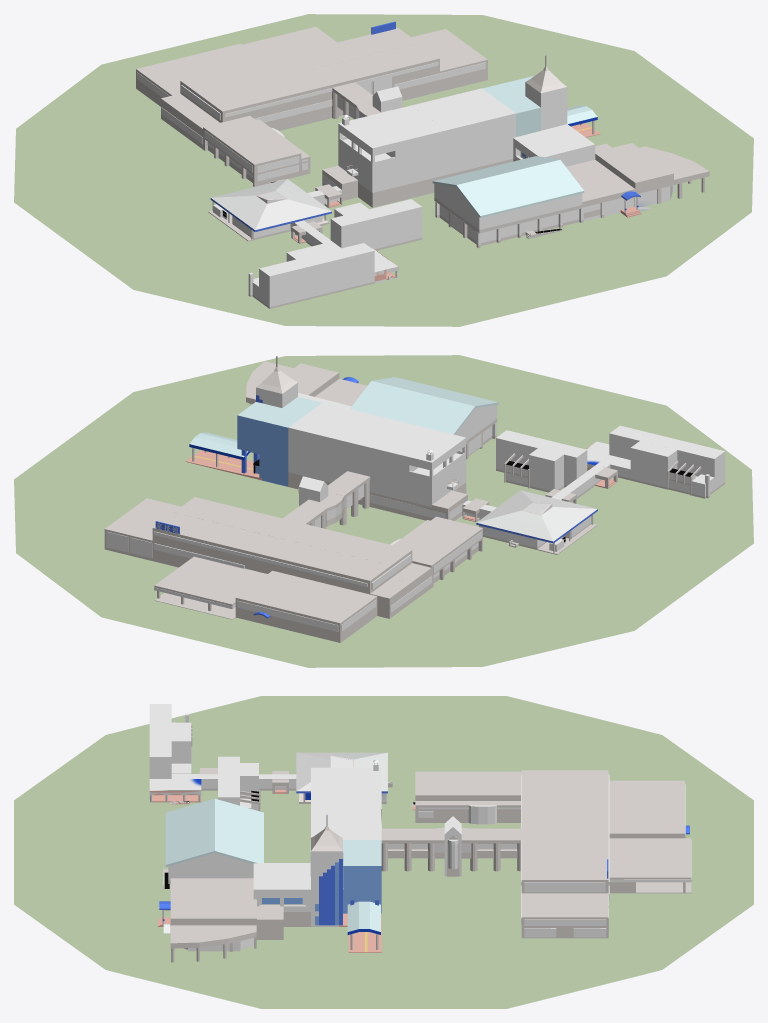
The model's file is kousya_sample12_19.glb.
The picture shows the model from 3 angles, top to bottom: view 1: azimuth 30°, elevation 25°; view 2: azimuth 150°, elevation 25°; view 3: azimuth 270°, elevation 25°; orthographic projection. The views are drawn at different scales.
Visible parts, largest first — view 1: 平面.006, 体育館屋根, 立方体.031, 学生寮・男子, 立方体, 立方体.001, 学生寮・女子, 立方体.027, 食堂・屋根・土台, 立方体.021, 本校舎2F・土台.001, 立方体.003 (+22 smaller); view 2: 平面.006, 立方体.003, 体育館屋根, 立方体.021, 立方体.002, 立方体.026, 本校者・紺の部分, 立方体, 学生寮・女子, 食堂・屋根・土台, 立方体.031, 立方体.001 (+25 smaller); view 3: 平面.006, 体育館屋根, 立方体.001, 立方体.003, 立方体.002, 立方体.018, 立方体.019, 立方体.027, 立方体.026, 大教室, 本校者・紺の部分, 立方体.031 (+25 smaller).
Boxes of the visible parts, box(x1,y1,x2,y2) form: 平面.006: box(14, 14, 753, 326); 体育館屋根: box(432, 156, 584, 217); 立方体.031: box(182, 69, 332, 149); 学生寮・男子: box(259, 243, 374, 308); 立方体: box(338, 134, 445, 192); 立方体.001: box(203, 115, 310, 186); 学生寮・女子: box(330, 199, 422, 250); 立方体.027: box(312, 43, 439, 116); 食堂・屋根・土台: box(210, 179, 331, 231); 立方体.021: box(161, 54, 310, 133); 本校舎2F・土台.001: box(445, 113, 515, 174); 立方体.003: box(136, 43, 263, 106); 平面.006: box(14, 355, 753, 667); 立方体.003: box(235, 570, 377, 642); 体育館屋根: box(350, 377, 498, 434); 立方体.021: box(260, 538, 410, 618); 立方体.002: box(154, 556, 267, 619); 立方体.026: box(152, 512, 280, 571); 本校者・紺の部分: box(237, 397, 321, 486); 立方体: box(358, 448, 466, 507); 学生寮・女子: box(496, 430, 587, 492); 食堂・屋根・土台: box(476, 490, 597, 543); 立方体.031: box(281, 523, 431, 602); 立方体.001: box(393, 516, 482, 587); 平面.006: box(14, 696, 753, 1008); 体育館屋根: box(165, 798, 263, 866); 立方体.001: box(415, 771, 521, 822); 立方体.003: box(609, 780, 684, 838); 立方体.002: box(609, 838, 691, 893); 立方体.018: box(521, 893, 608, 938); 立方体.019: box(311, 767, 381, 804); 立方体.027: box(521, 825, 564, 893); 立方体.026: box(565, 825, 608, 893); 大教室: box(253, 863, 310, 911); 本校者・紺の部分: box(310, 840, 381, 913); 立方体.031: box(521, 770, 564, 825).
Size of the model in its own units: 52.15 by 8.2 by 52.15.
Materials: 5 (2 with a texture image).
